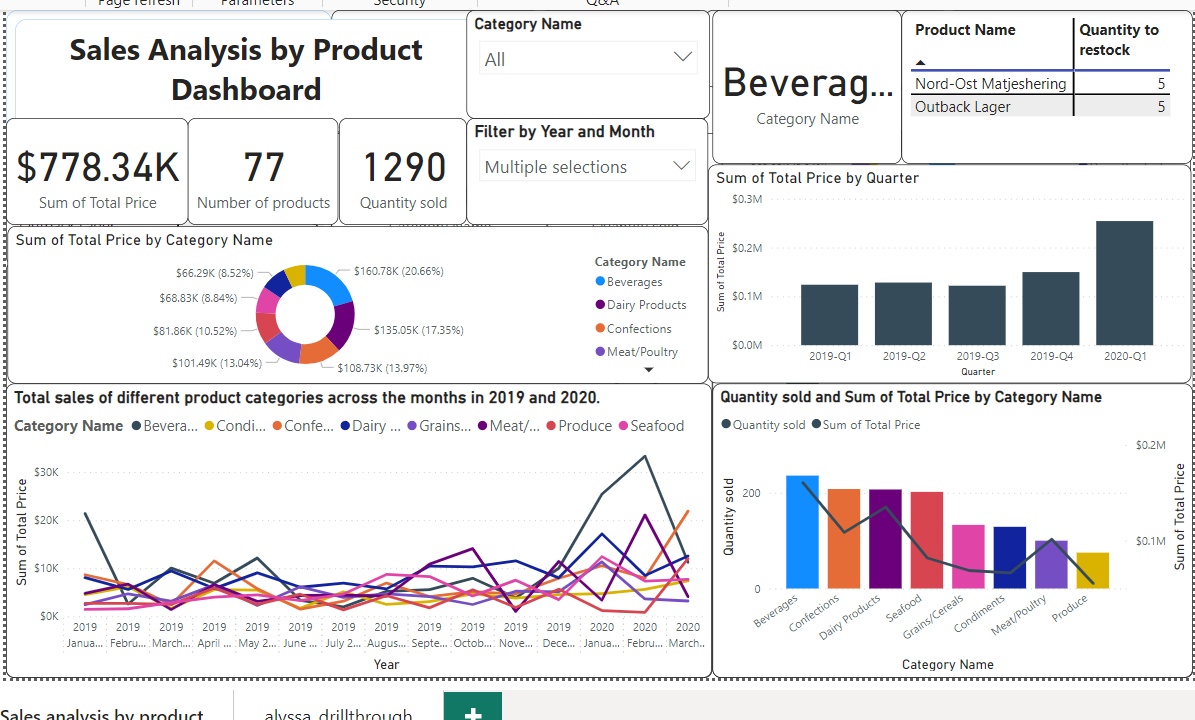

Layout of this report page (visuals, bound fields, positions):
{"tool":"powerbi","page":{"name":"alyssa_Sales analysis by product","canvas":[1280,720],"ordinal":0},"visuals":[{"type":"lineChart","title":"Total sales of different product  categories across the months in 2019 and 2020.","fields":{"Category":["Master Date.Month","Master Date.Year"],"Series":["Categories.Category Name"],"Y":["Sum(Order Details.Total Price)"]},"box":[0,271.7,761.7,448.3],"z":0},{"type":"lineStackedColumnComboChart","fields":{"Category":["Categories.Category Name"],"Y":["CountNonNull(Order Details.Quantity)"],"Y2":["Sum(Order Details.Total Price)"]},"box":[761.7,275,518.3,445],"z":1000},{"type":"textbox","box":[0,0,351.2,150.5],"z":2000},{"type":"tableEx","fields":{"Values":["Products.Product Name","CountNonNull(Products.Low Stock Count)"]},"box":[0,150.5,351.2,124.7],"z":3000},{"type":"slicer","title":"Filter by Year and Month","fields":{"Values":["Master Date.Year","Master Date.Month"]},"box":[1016.7,0,260.8,83.2],"z":4000},{"type":"card","fields":{"Values":["CountNonNull(Products.Product Name)"]},"box":[576.2,0,177.9,132.3],"z":5000},{"type":"card","fields":{"Values":["Sum(Order Details.Total Price)"]},"box":[351.2,0,225,132.3],"z":6000},{"type":"slicer","title":"Category Name","fields":{"Values":["Categories.Category Name"]},"box":[754,0,262.7,83.2],"z":7000},{"type":"card","fields":{"Values":["Min(Categories.Category Name)"]},"box":[351.2,132.3,232.6,135.3],"z":8000},{"type":"donutChart","fields":{"Y":["Sum(Order Details.Total Price)"],"Category":["Categories.Category Name"]},"box":[772.3,83.6,506.2,191.5],"z":9000},{"type":"card","fields":{"Values":["CountNonNull(Order Details.Quantity)"]},"box":[583.8,132.3,188.5,135.3],"z":10000},{"type":"lineChart","title":"Total sales of different product  categories across the months in 2019 and 2020.","fields":{"Category":["Master Date.Month","Master Date.Year"],"Series":["Categories.Category Name"],"Y":["Sum(Order Details.Total Price)"]},"box":[0,402.5,761.6,317.5],"z":11000},{"type":"lineStackedColumnComboChart","fields":{"Category":["Categories.Category Name"],"Y":["CountNonNull(Order Details.Quantity)"],"Y2":["Sum(Order Details.Total Price)"]},"box":[761.6,402.5,517.8,317.5],"z":12000},{"type":"textbox","box":[10,10,497,117.2],"z":13000},{"type":"tableEx","fields":{"Values":["Products.Product Name","CountNonNull(Products.Low Stock Count)"]},"box":[965.7,0,313.7,166.3],"z":14000},{"type":"slicer","title":"Filter by Year and Month","fields":{"Values":["Master Date.Year","Master Date.Month"]},"box":[497,117.2,260.8,115.3],"z":15000},{"type":"card","fields":{"Values":["CountNonNull(Products.Product Name)"]},"box":[196.5,117.2,162.5,115.3],"z":16000},{"type":"card","fields":{"Values":["Sum(Order Details.Total Price)"]},"box":[0,117.2,196.5,115.3],"z":17000},{"type":"slicer","title":"Category Name","fields":{"Values":["Categories.Category Name"]},"box":[497,0,262.7,117.2],"z":18000},{"type":"card","fields":{"Values":["Min(Categories.Category Name)"]},"box":[761.6,0,204.1,166.3],"z":19000},{"type":"donutChart","fields":{"Y":["Sum(Order Details.Total Price)"],"Category":["Categories.Category Name"]},"box":[1.9,232.4,755.9,170.1],"z":20000},{"type":"card","fields":{"Values":["CountNonNull(Order Details.Quantity)"]},"box":[359.1,117.2,138,115.3],"z":21000},{"type":"clusteredColumnChart","fields":{"Y":["Sum(Order Details.Total Price)"],"Category":["Master Date.Quarter"]},"box":[757.8,166.3,521.6,236.2],"z":22000}]}

Visuals, with their boxes on the page's 1280x720 design canvas (x1, y1, x2, y2). These are canvas units, not pixel positions in the 1195x720 screenshot, which may show the page scaled, cropped or inside an application window:
"Total sales of different product  categories across the months in 2019 and 2020." lineChart: 0 272 762 720
lineStackedColumnComboChart - Categories.Category Name x CountNonNull(Order Details.Quantity): 762 275 1280 720
textbox: 0 0 351 150
tableEx - Products.Product Name x CountNonNull(Products.Low Stock Count): 0 150 351 275
"Filter by Year and Month" slicer: 1017 0 1278 83
card - CountNonNull(Products.Product Name): 576 0 754 132
card - Sum(Order Details.Total Price): 351 0 576 132
"Category Name" slicer: 754 0 1017 83
card - Min(Categories.Category Name): 351 132 584 268
donutChart - Sum(Order Details.Total Price) x Categories.Category Name: 772 84 1278 275
card - CountNonNull(Order Details.Quantity): 584 132 772 268
"Total sales of different product  categories across the months in 2019 and 2020." lineChart: 0 402 762 720
lineStackedColumnComboChart - Categories.Category Name x CountNonNull(Order Details.Quantity): 762 402 1279 720
textbox: 10 10 507 127
tableEx - Products.Product Name x CountNonNull(Products.Low Stock Count): 966 0 1279 166
"Filter by Year and Month" slicer: 497 117 758 232
card - CountNonNull(Products.Product Name): 196 117 359 232
card - Sum(Order Details.Total Price): 0 117 196 232
"Category Name" slicer: 497 0 760 117
card - Min(Categories.Category Name): 762 0 966 166
donutChart - Sum(Order Details.Total Price) x Categories.Category Name: 2 232 758 402
card - CountNonNull(Order Details.Quantity): 359 117 497 232
clusteredColumnChart - Sum(Order Details.Total Price) x Master Date.Quarter: 758 166 1279 402
